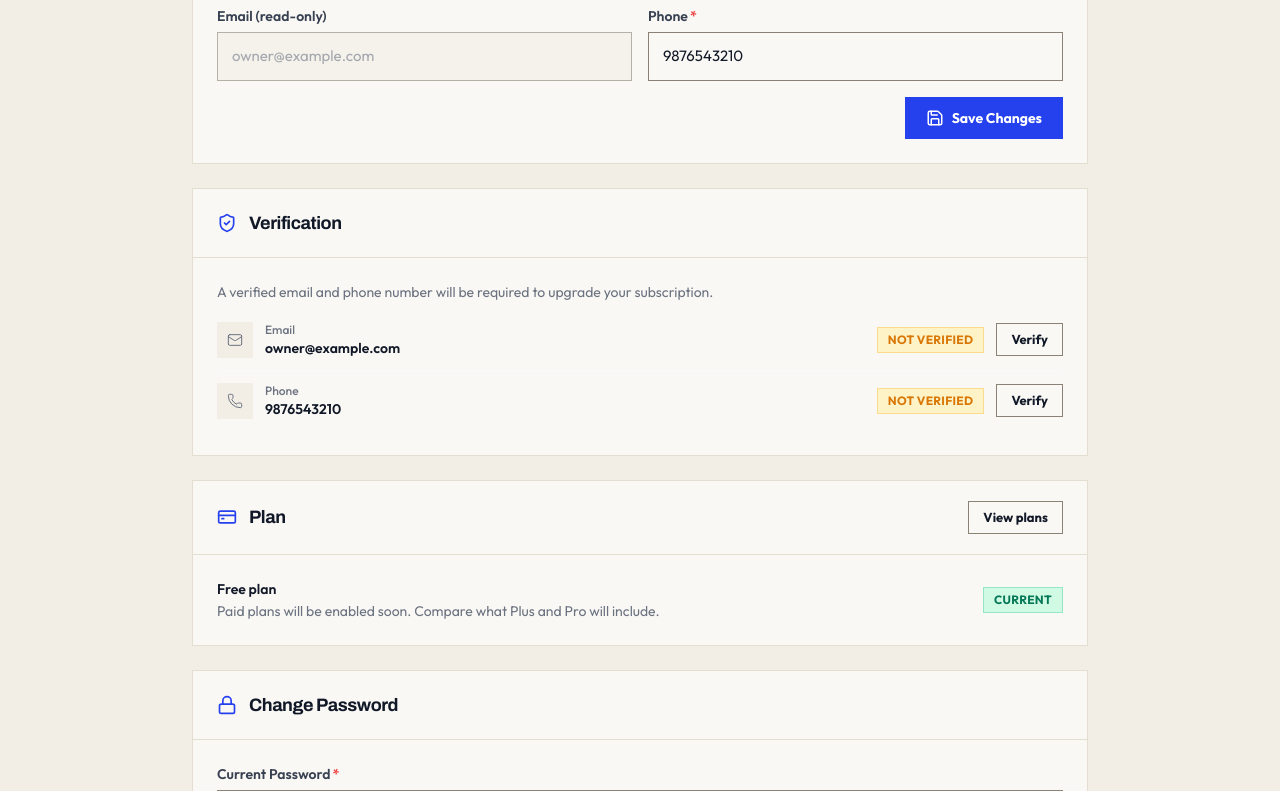
Test: Settings — owner verification card › surfaces the server message when a code is wrong
(page scrolled)
Click the button with aria-label "Verify phone" at [1030, 401], box [996, 384, 1063, 417]
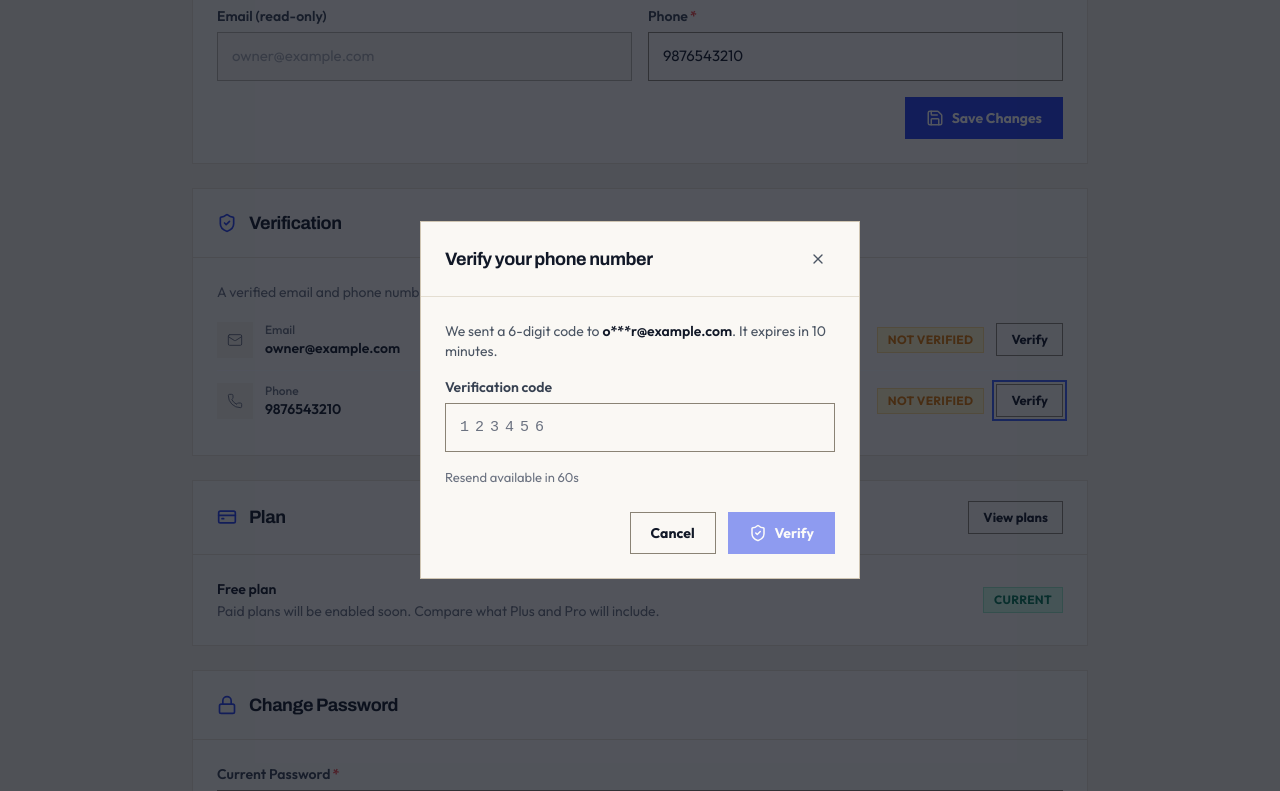
Result: the text "o***r@example.com" is shown at [602, 322, 732, 340]
Type "000000" into the field with placeholder "123456" at [640, 428], box [445, 403, 835, 452]
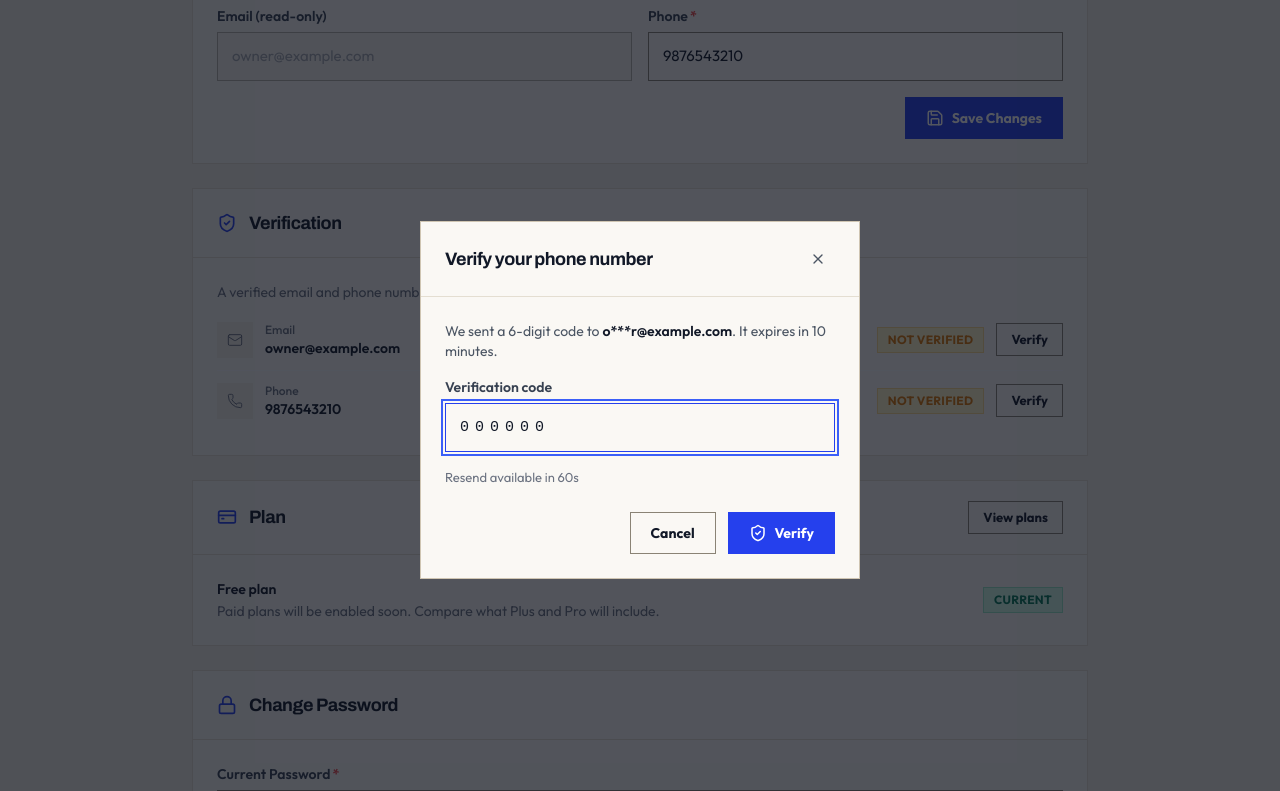
Click the button "Verify" at [781, 533], box [728, 512, 835, 554]
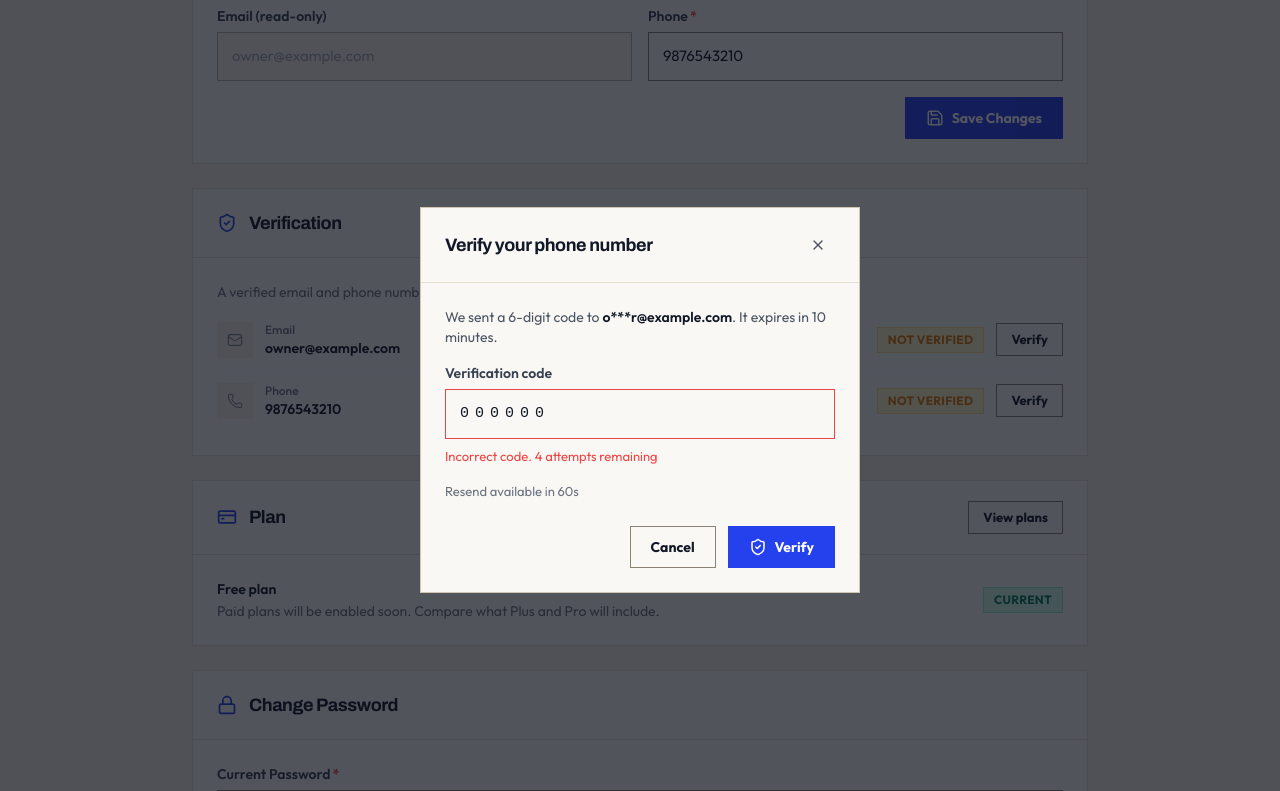
Result: the message reads "Incorrect code. 4 attempts remaining" at [445, 448, 658, 464]
